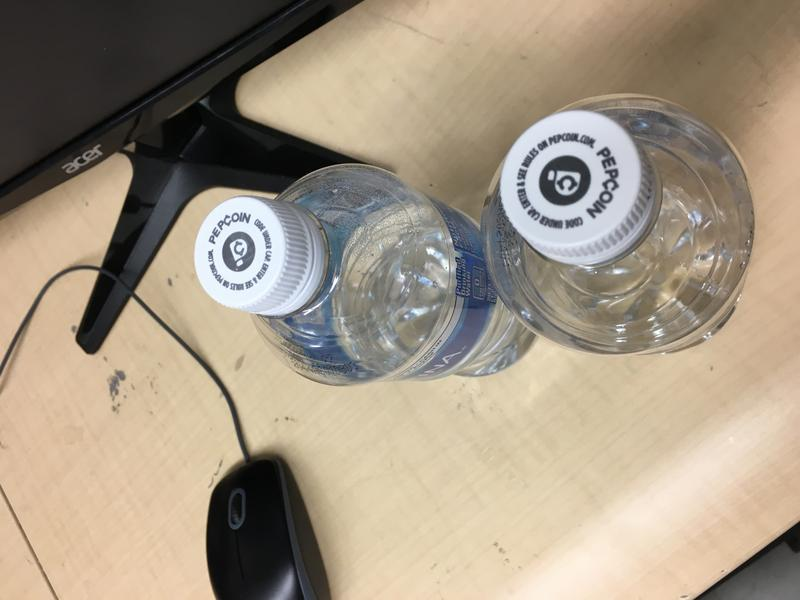bottle: (191, 161, 542, 384), (480, 88, 758, 359)
